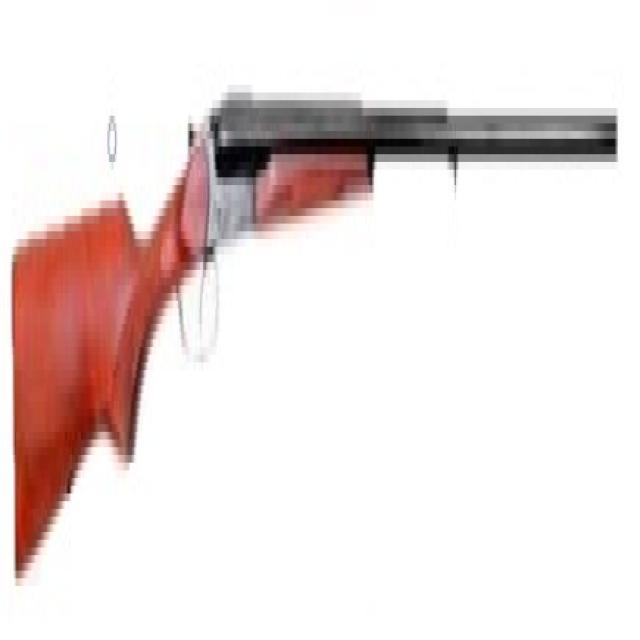rifle: (7, 71, 621, 608)
